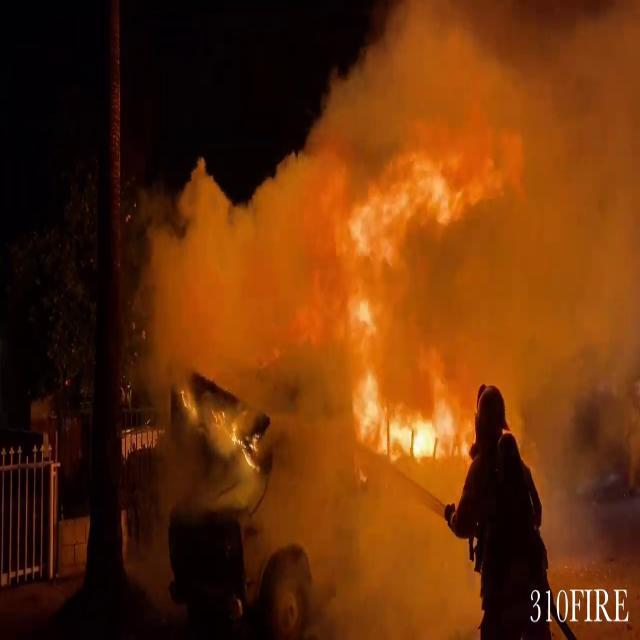Fire: (346, 361, 454, 487)
Smoke: (135, 1, 640, 478)
